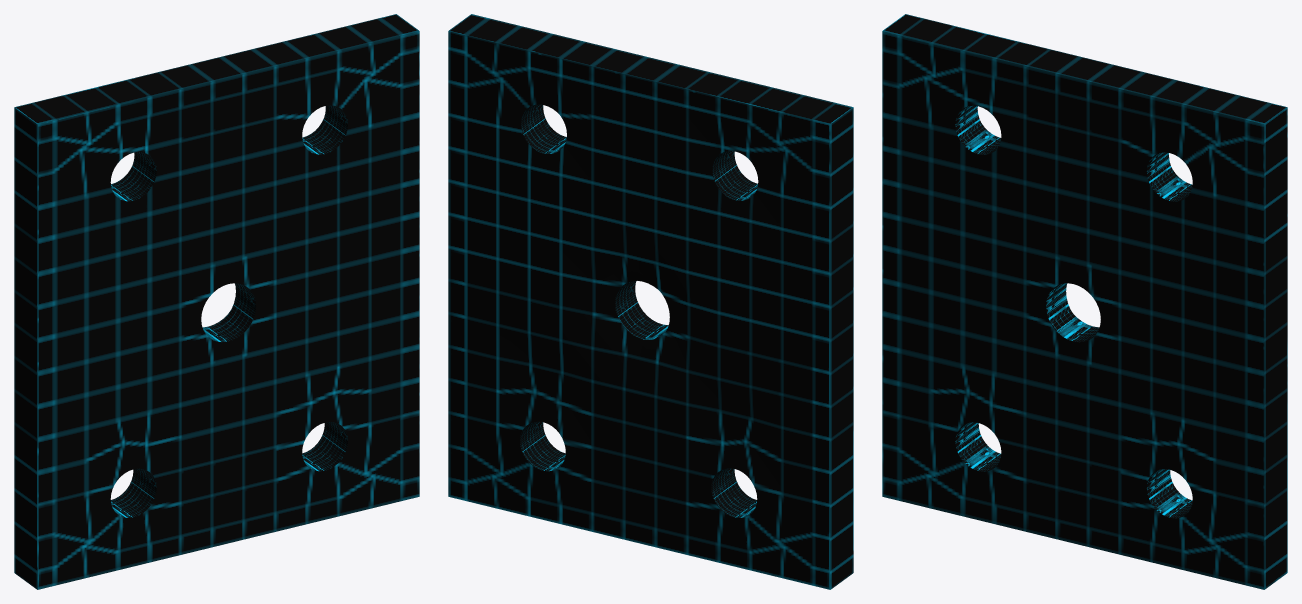
File: Mold1-Ejector retaining plate-M.glb
3 views of the same model, side by side, from view 1: azimuth 30°, elevation 25°; view 2: azimuth 150°, elevation 25°; view 3: azimuth 330°, elevation 25° (orthographic).
Visible parts, largest first — view 1: contre plaque ejecteurs; view 2: contre plaque ejecteurs; view 3: contre plaque ejecteurs.
Boxes of the visible parts, x1,y1,x2,y2 form: contre plaque ejecteurs: (14, 14, 419, 589); contre plaque ejecteurs: (448, 14, 853, 589); contre plaque ejecteurs: (882, 14, 1287, 589).
Size of the model in its own units: 4.45 by 5.18 by 0.471.
Materials: 1 (1 with a texture image).
